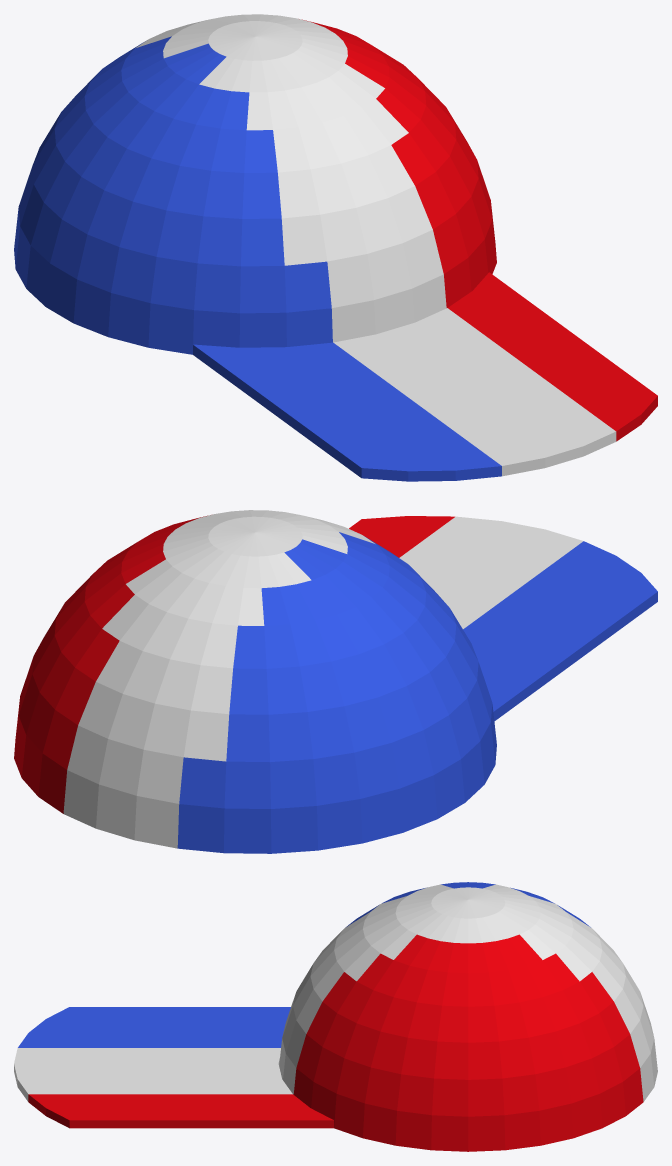
File: casquette.fbx
3 views of the same model, one above another, from view 1: azimuth 30°, elevation 25°; view 2: azimuth 150°, elevation 25°; view 3: azimuth 270°, elevation 25° (orthographic). The views are drawn at different scales.
Visible parts, largest first — view 1: Sphere.001, Sphere.002, Sphere.003; view 2: Sphere.001, Sphere.002, Sphere.003; view 3: Sphere.003, Sphere.002, Sphere.001.
Boxes of the visible parts, <box> form: Sphere.001: <box>14,36,501,481</box>; Sphere.002: <box>135,14,616,476</box>; Sphere.003: <box>302,19,657,441</box>; Sphere.001: <box>177,532,657,853</box>; Sphere.002: <box>63,510,583,848</box>; Sphere.003: <box>14,515,454,813</box>; Sphere.003: <box>28,934,643,1151</box>; Sphere.002: <box>14,884,657,1101</box>; Sphere.001: <box>18,882,590,1047</box>.
Bounding box in the file's own units: 200 × 100 × 339.
